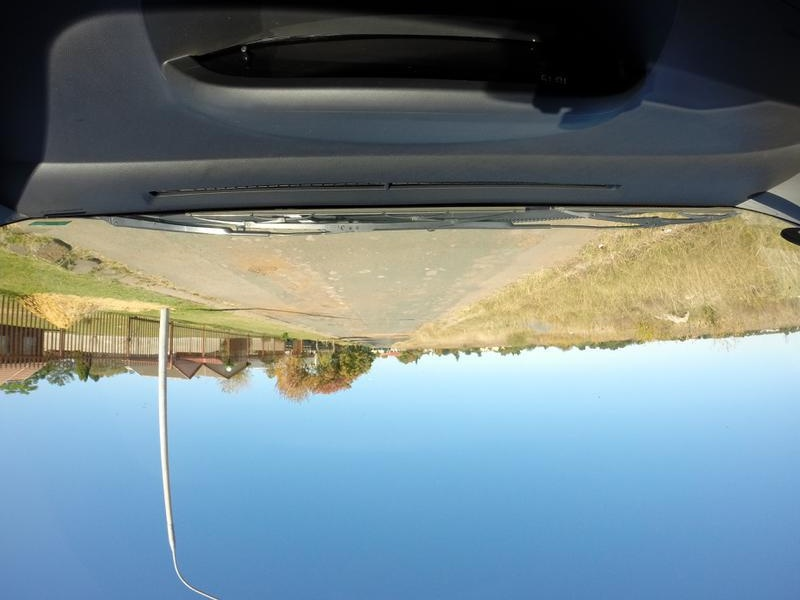pothole: (239, 260, 276, 274), (508, 232, 536, 249), (306, 309, 338, 322), (389, 316, 413, 321)
